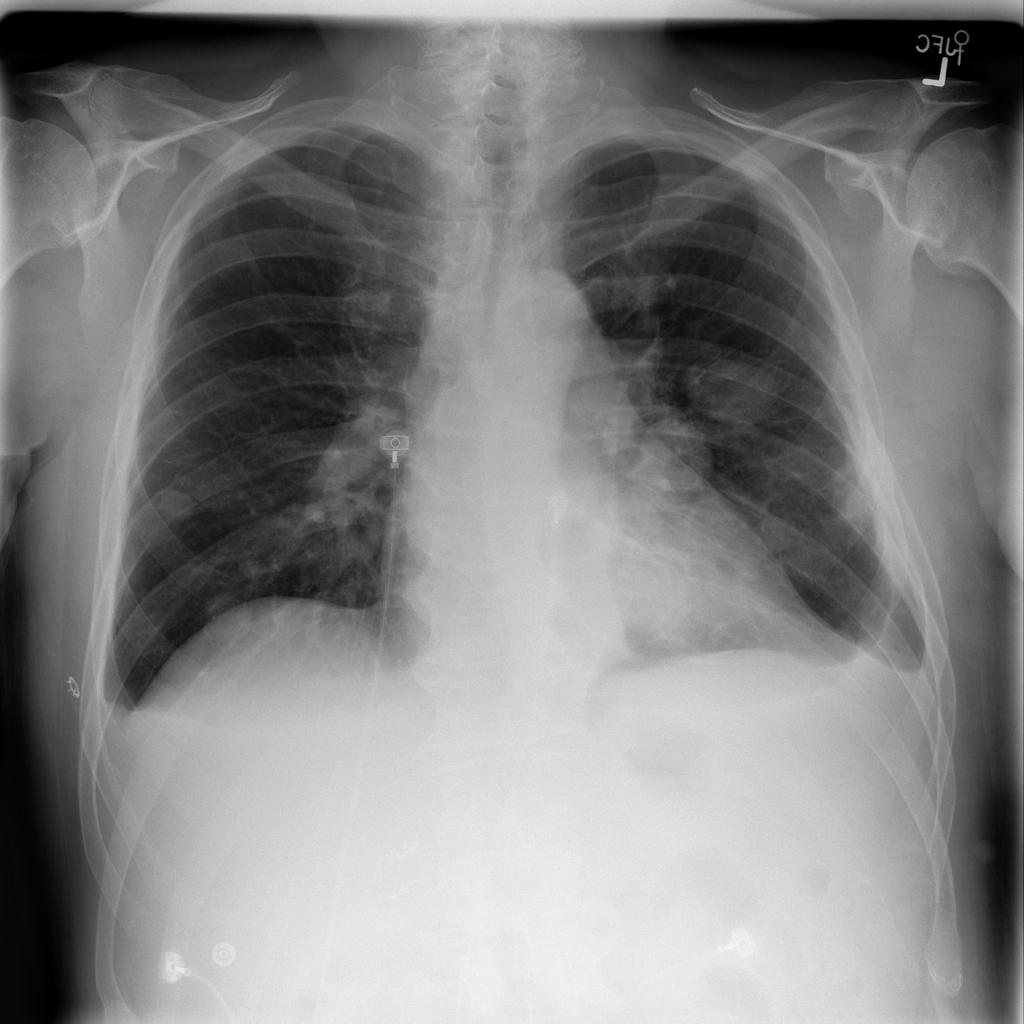nodule: (585, 523, 711, 646), (606, 405, 737, 519), (674, 336, 791, 444), (188, 576, 265, 644), (139, 470, 215, 537)
